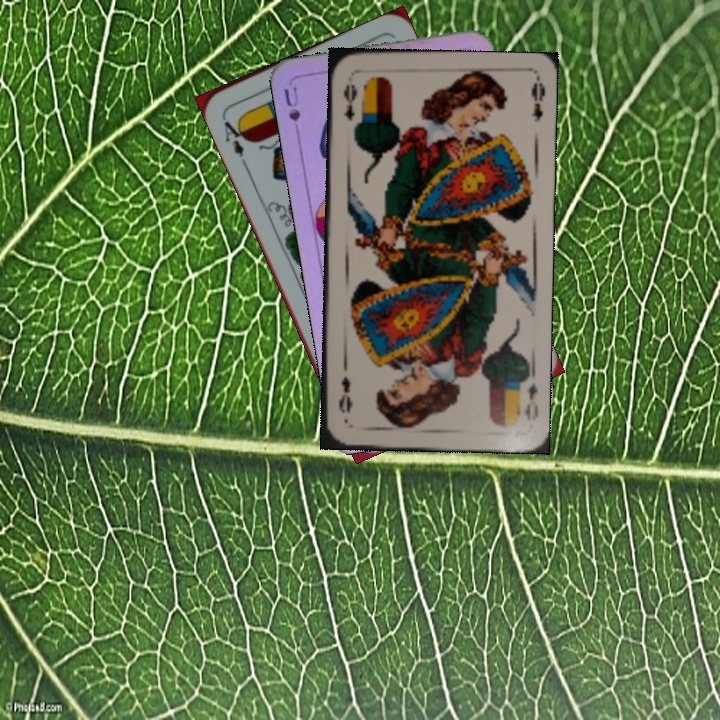EA: (218, 112, 251, 168)
EO: (514, 368, 541, 423), (339, 80, 360, 124)
SU: (280, 83, 303, 142)
